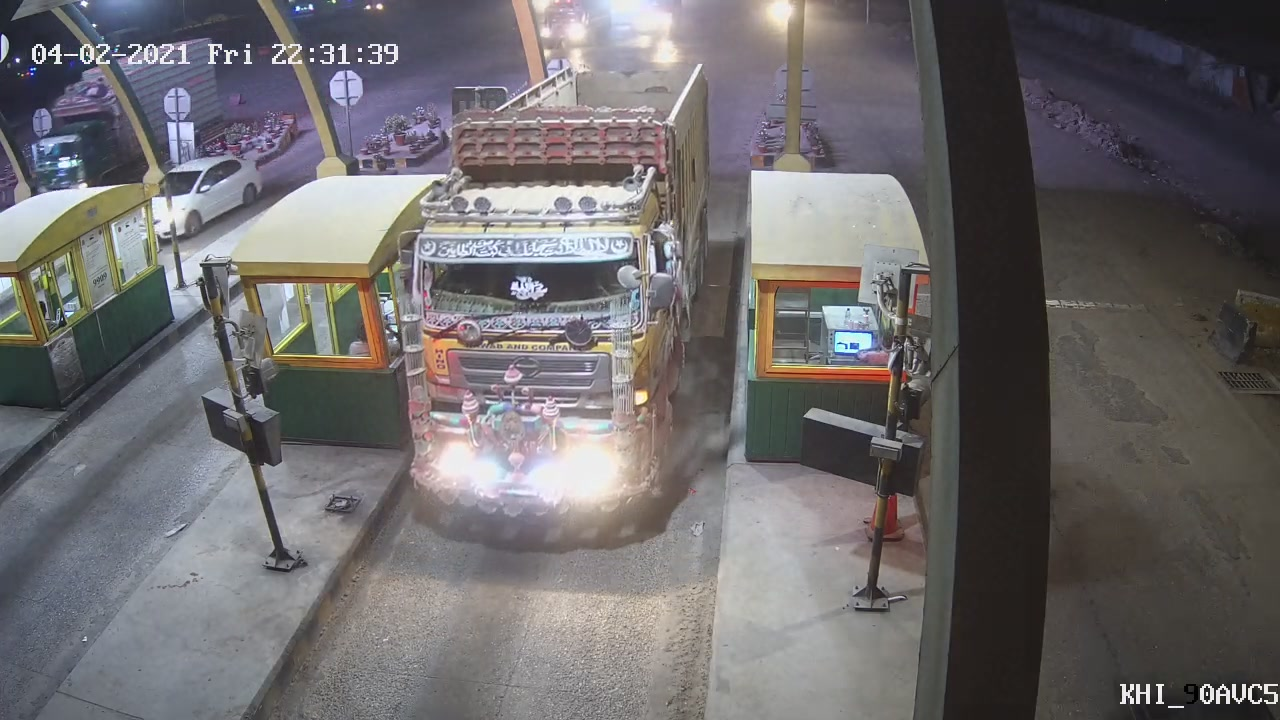F5: (393, 59, 717, 519)
